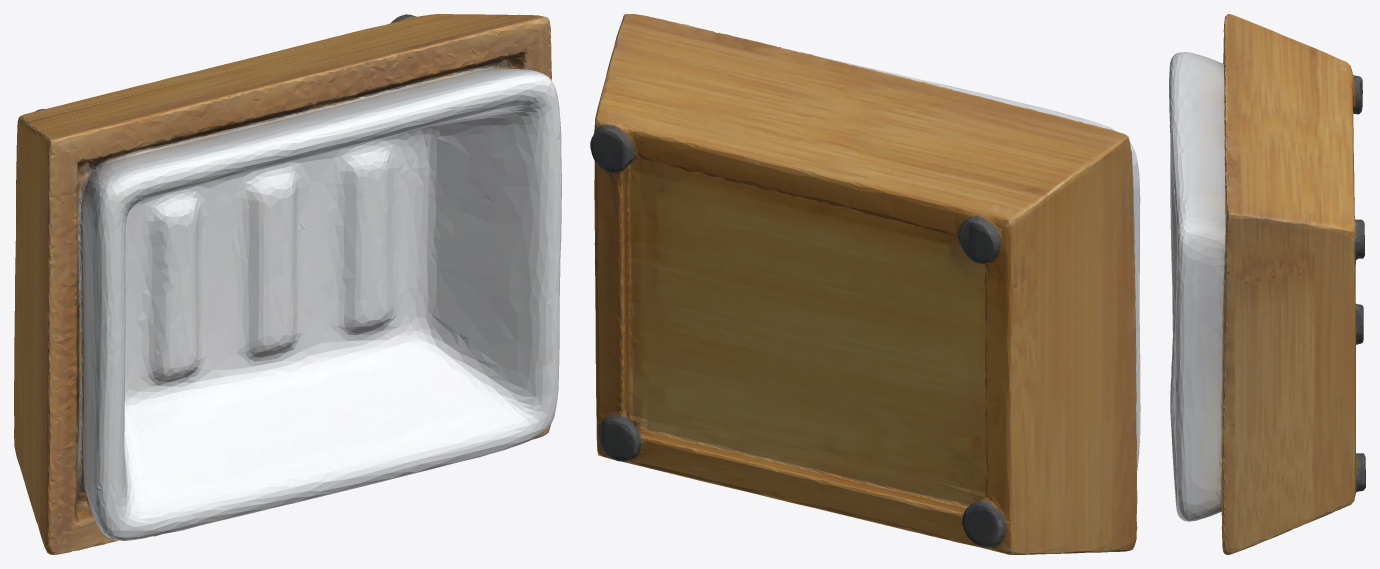
File: soap.glb
3 views of the same model, side by side, from view 1: azimuth 30°, elevation 25°; view 2: azimuth 150°, elevation 25°; view 3: azimuth 270°, elevation 25° (orthographic). The views are drawn at different scales.
Visible parts, largest first — view 1: geometry_0; view 2: geometry_0; view 3: geometry_0.
Boxes of the visible parts, x1,y1,x2,y2 form: geometry_0: (14, 14, 561, 554); geometry_0: (590, 14, 1140, 554); geometry_0: (1169, 14, 1365, 554).
Size of the model in its own units: 1 by 0.7867 by 0.4062.
1 material, 1 textured.
